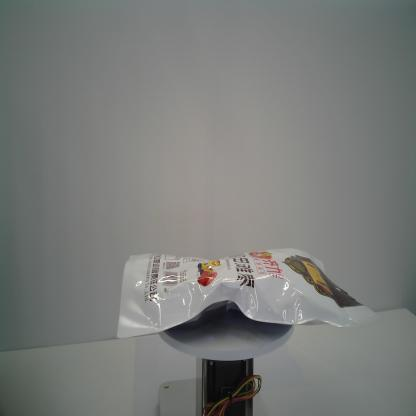Dried Food: (116, 246, 381, 338)
